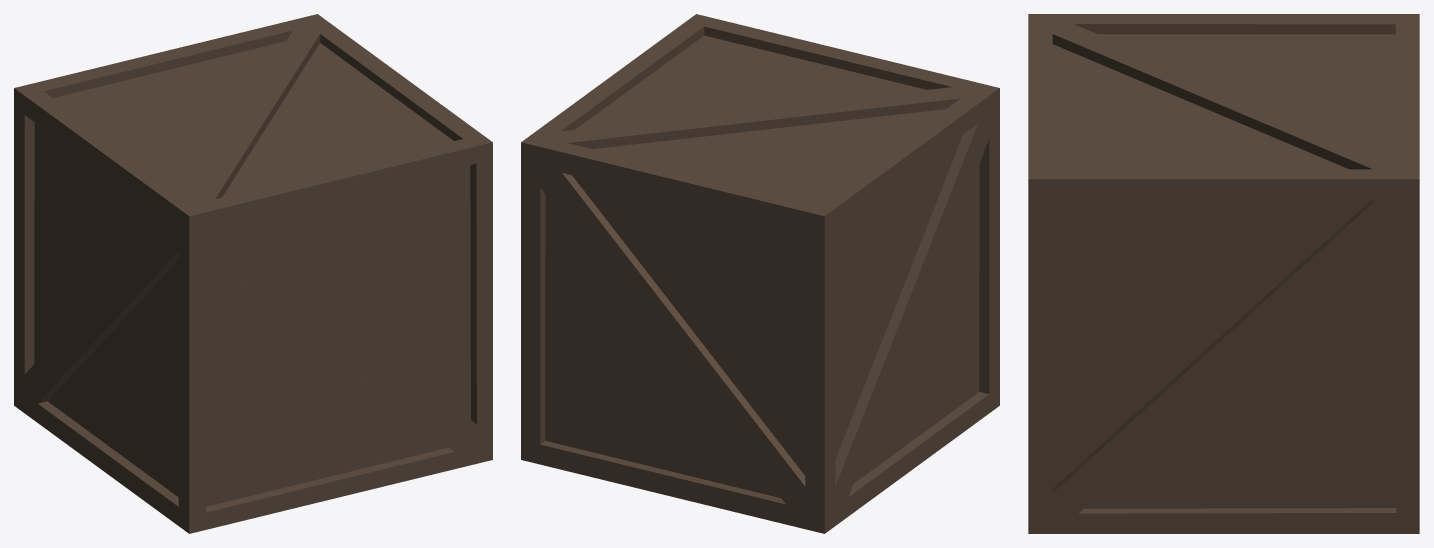
File: box_untextured.fbx
3 views of the same model, side by side, from view 1: azimuth 30°, elevation 25°; view 2: azimuth 150°, elevation 25°; view 3: azimuth 270°, elevation 25° (orthographic). The views are drawn at different scales.
Parts seen in each view (by area): view 1: Box; view 2: Box; view 3: Box.
Part boxes in pixels (left/top/right/bottom): Box: left=14, top=14, right=492, bottom=533; Box: left=521, top=14, right=999, bottom=533; Box: left=1028, top=14, right=1419, bottom=533.
Size of the model in its own units: 469 by 469 by 469.
